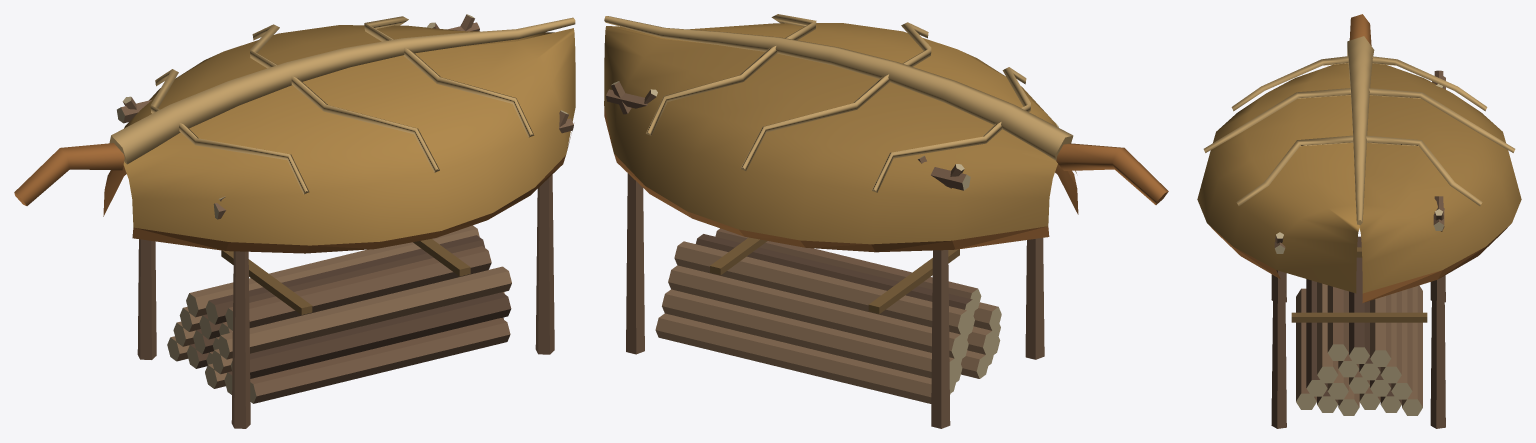
File: woodpile.glb
3 views of the same model, side by side, from view 1: azimuth 30°, elevation 25°; view 2: azimuth 150°, elevation 25°; view 3: azimuth 270°, elevation 25° (orthographic). The views are drawn at different scales.
Parts seen in each view (by area): view 1: body_nl, body, body_nh; view 2: body_nl, body, body_nh; view 3: body_nl, body_nh, body.
Part boxes in pixels (x1=…): body_nl: x1=14, y1=22, x2=575, y2=428; body: x1=14, y1=14, x2=575, y2=205; body_nh: x1=150, y1=16, x2=534, y2=194; body_nl: x1=604, y1=23, x2=1168, y2=428; body: x1=604, y1=16, x2=1168, y2=204; body_nh: x1=646, y1=14, x2=1030, y2=192; body_nl: x1=1197, y1=63, x2=1521, y2=428; body_nh: x1=1203, y1=56, x2=1515, y2=205; body: x1=1275, y1=14, x2=1444, y2=243.
Size of the model in its own units: 2.57 by 1.34 by 1.53.
